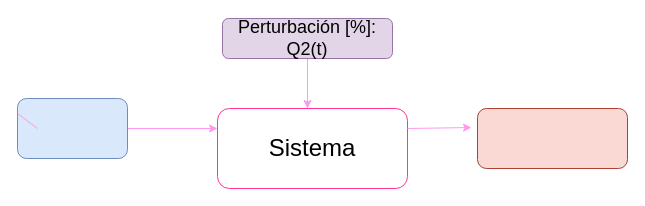
Image size: 645x206. Some labels were removed from this diagram. The shapes that lost their labels are listed below. From the top down, each one's box as (x1, y1, x2, y2) in pixels, then its label:
(16, 98, 128, 158): Entrada [%]: [Q1 (t)]
(476, 108, 628, 168): Salida [°C]: y=[T1,T2]
